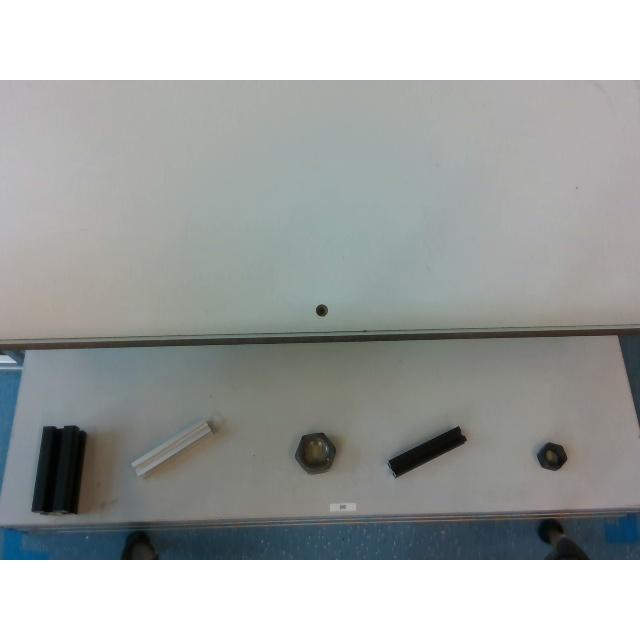F20_20_B: (386, 427, 466, 478)
F20_20_G: (131, 419, 211, 477)
M20: (536, 442, 568, 470)
M30: (293, 431, 335, 474)
S40_40_B: (32, 425, 84, 513)
